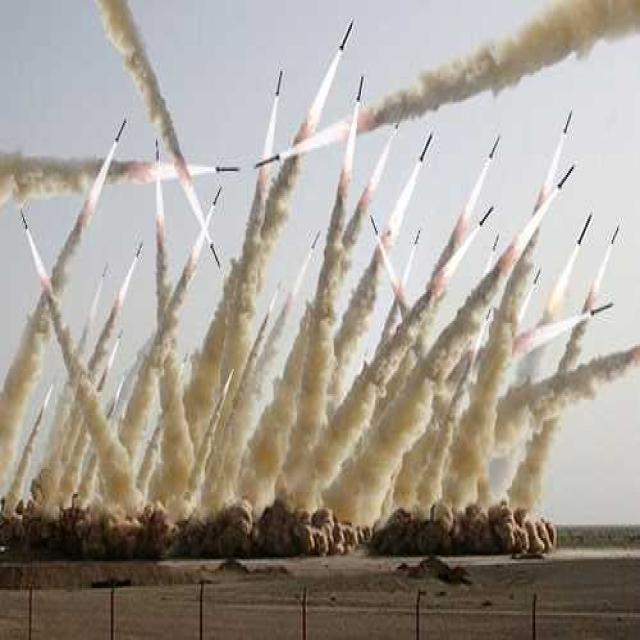missile: (578, 212, 594, 246), (420, 126, 434, 164), (116, 112, 130, 146), (253, 152, 280, 169), (558, 162, 575, 189), (588, 300, 615, 317), (341, 17, 355, 49), (478, 204, 494, 228), (214, 163, 242, 176), (488, 134, 501, 160), (18, 204, 30, 232), (274, 66, 284, 98), (211, 243, 222, 272), (354, 73, 364, 103), (564, 108, 575, 134), (134, 238, 145, 262), (369, 215, 379, 238), (612, 220, 620, 243), (215, 182, 223, 204), (415, 227, 421, 245)
